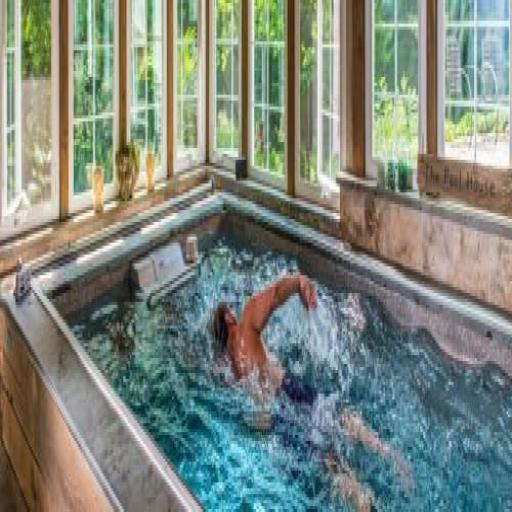swimming: (208, 263, 413, 509)
